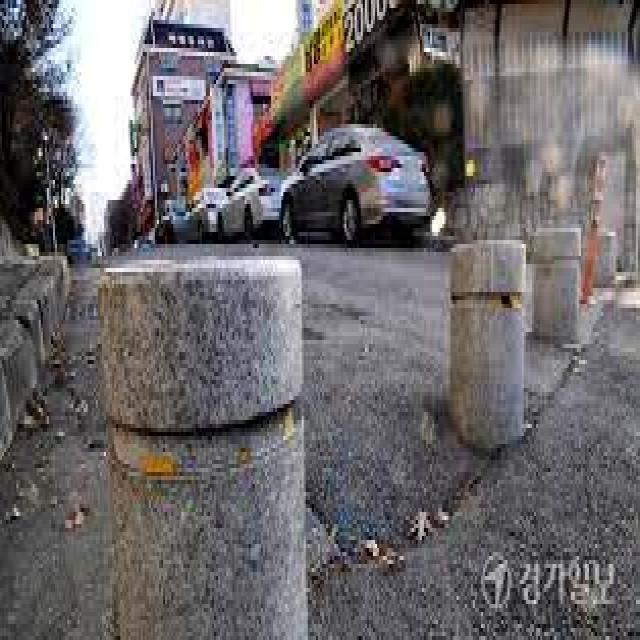bollard: (92, 255, 336, 640), (446, 228, 528, 447), (531, 215, 582, 359), (587, 219, 626, 301)
